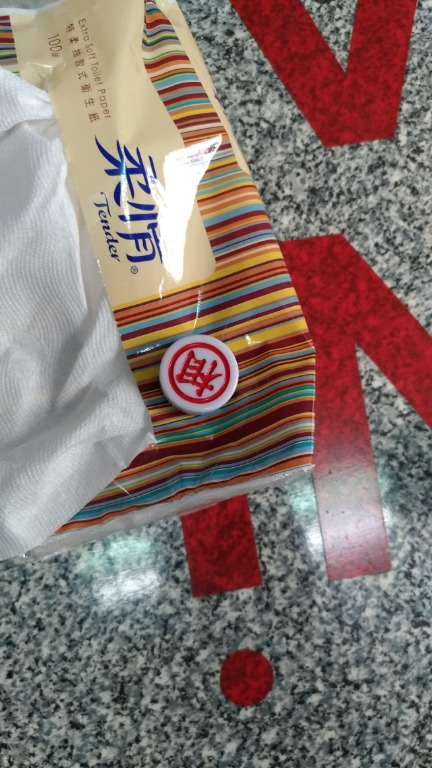r-elephant: (148, 327, 263, 426)
